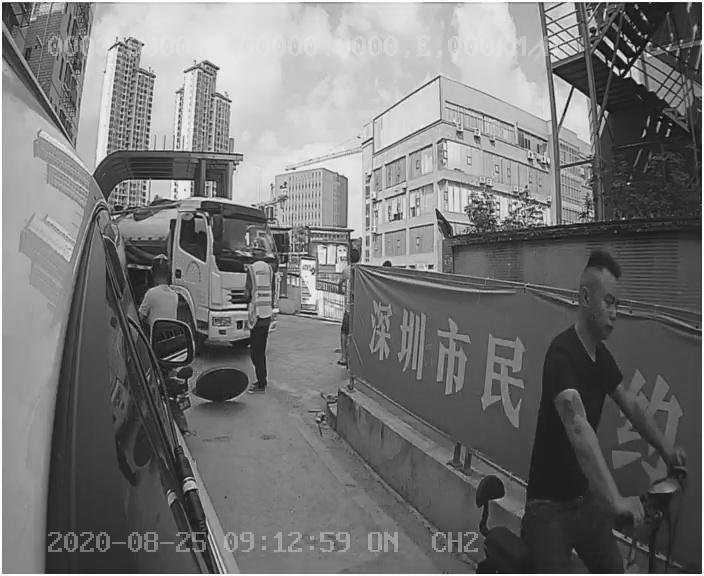person: (238, 238, 277, 399)
